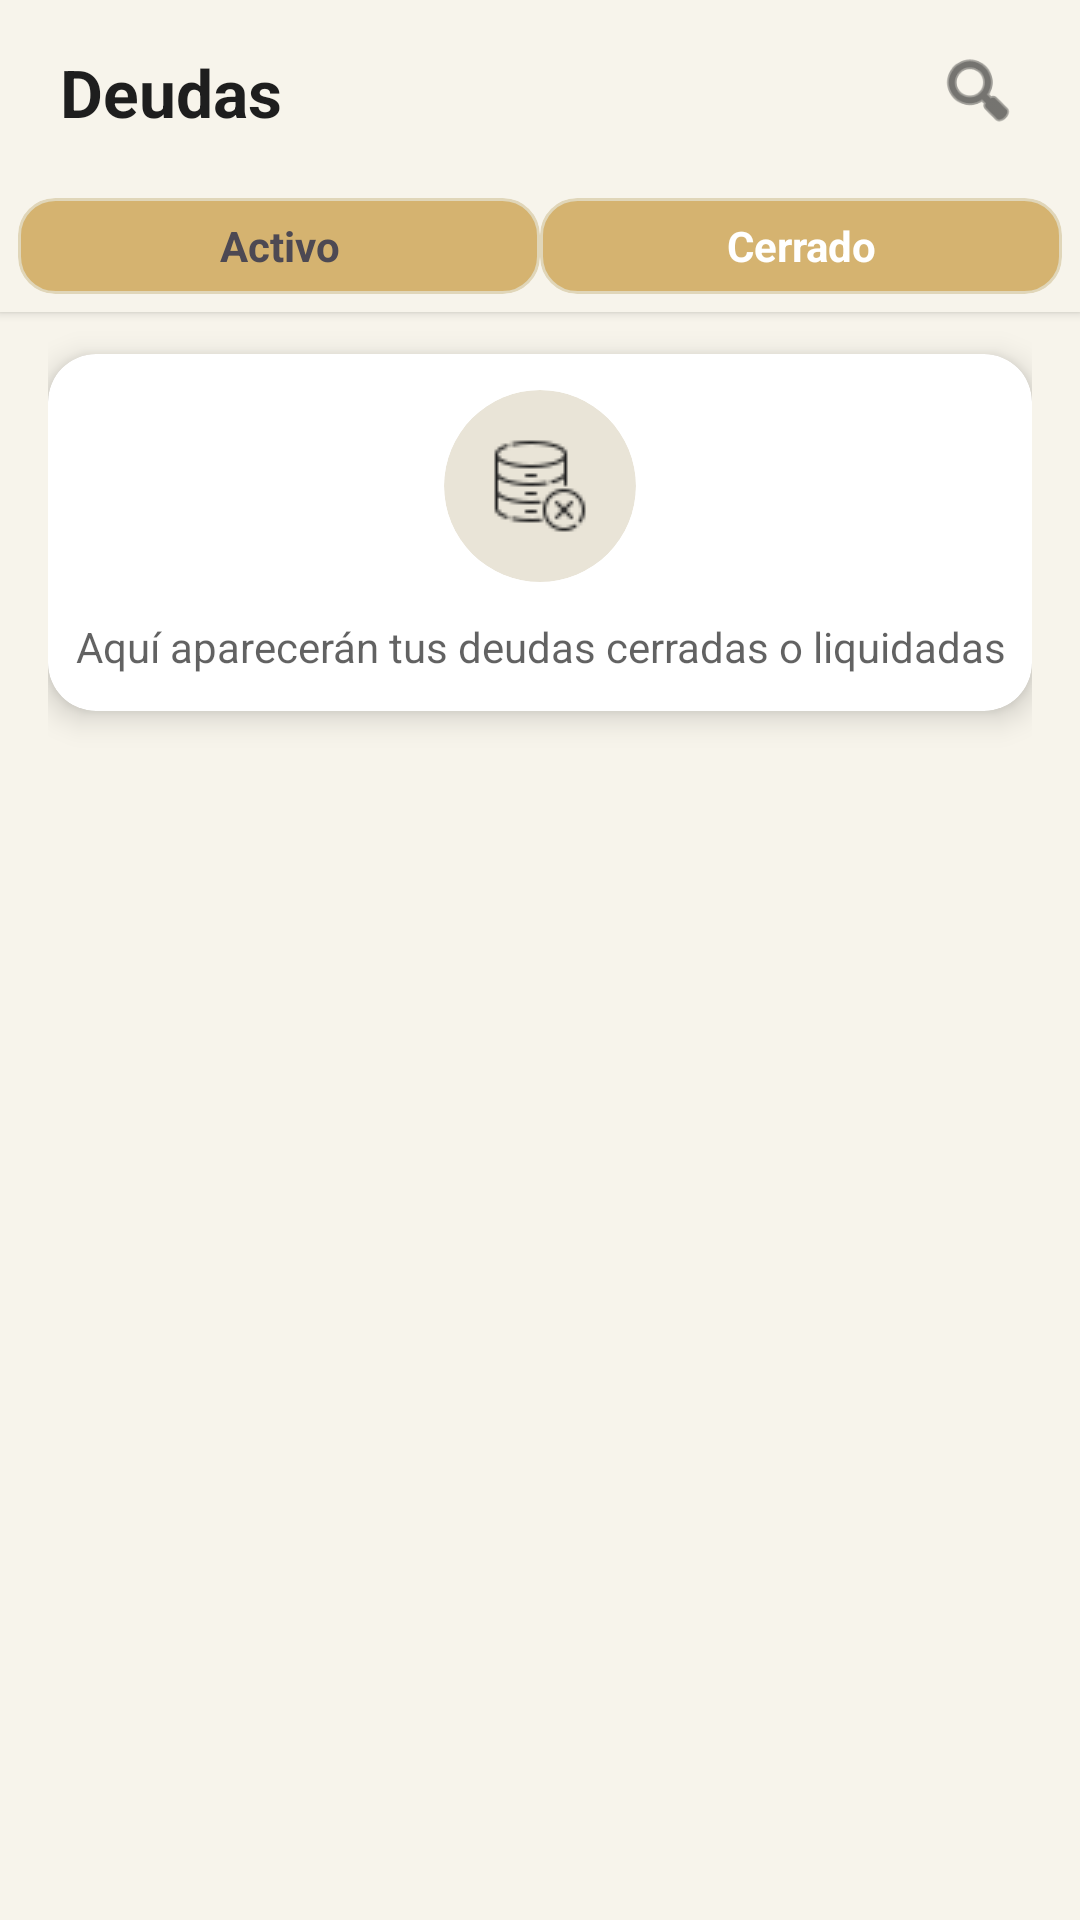

Point at icon controls on the screen. Image size 1080x1920, points as (x=x, y=y).
no data: (x=540, y=486)
search: (x=978, y=90)
